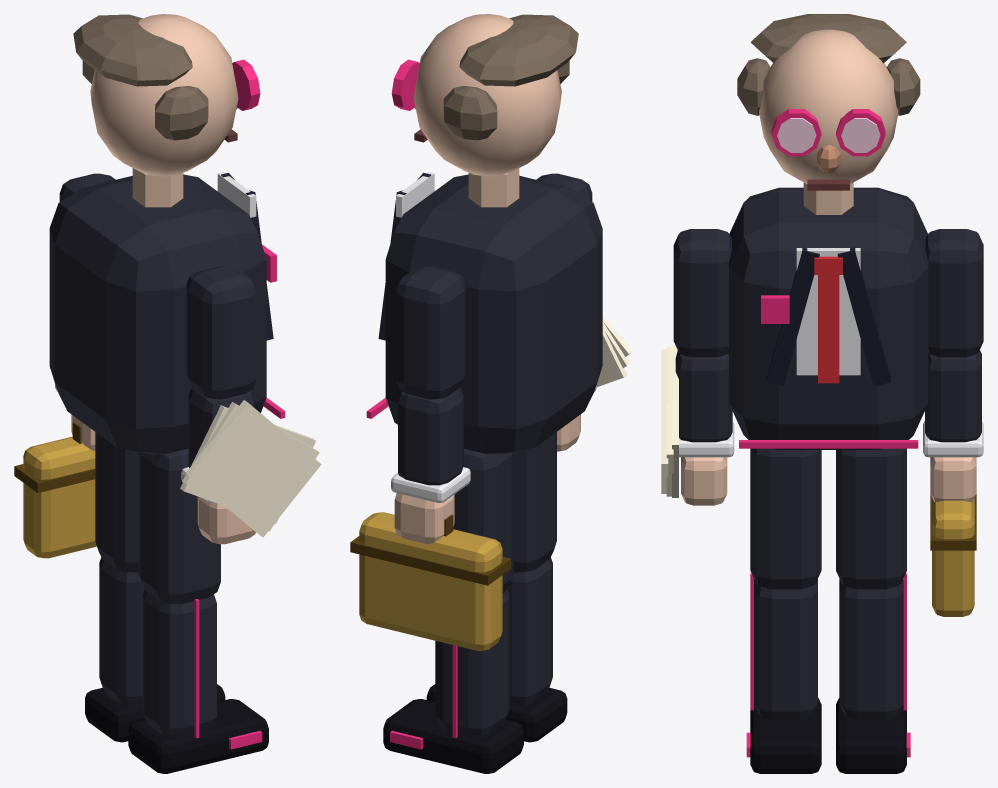
File: juriste.glb
3 renders of one model, left to right at view 1: azimuth 30°, elevation 25°; view 2: azimuth 150°, elevation 25°; view 3: azimuth 270°, elevation 25°, orthographic.
Visible parts, largest first — view 1: p_rbox.151, p_sph.313, p_rbox.137, p_box.899, p_rbox.138, p_rbox.140, p_rbox.152, p_sph.315, p_rbox.145, p_rbox.139, p_rbox.144, p_sph.316 (+11 smaller); view 2: p_rbox.151, p_rbox.152, p_sph.313, p_rbox.147, p_rbox.145, p_sph.315, p_rbox.138, p_rbox.148, p_rbox.146, p_rbox.137, p_rbox.144, p_sph.317 (+11 smaller); view 3: p_rbox.151, p_sph.313, p_rbox.137, p_rbox.144, p_rbox.145, p_rbox.138, p_rbox.147, p_rbox.140, p_rbox.148, p_rbox.141, p_rbox.152, p_rbox.139 (+24 smaller).
Boxes of the visible parts, left/top/right/bottom form: p_rbox.151: left=49, top=174, right=266, bottom=454; p_sph.313: left=90, top=14, right=238, bottom=176; p_rbox.137: left=138, top=449, right=220, bottom=604; p_box.899: left=186, top=400, right=321, bottom=537; p_rbox.138: left=142, top=589, right=216, bottom=737; p_rbox.140: left=186, top=266, right=256, bottom=399; p_rbox.152: left=23, top=436, right=96, bottom=558; p_sph.315: left=73, top=14, right=192, bottom=86; p_rbox.145: left=99, top=557, right=144, bottom=705; p_rbox.139: left=128, top=699, right=268, bottom=773; p_rbox.144: left=95, top=432, right=138, bottom=572; p_sph.316: left=155, top=86, right=208, bottom=140; p_rbox.151: left=385, top=174, right=602, bottom=454; p_rbox.152: left=359, top=512, right=502, bottom=650; p_sph.313: left=414, top=14, right=561, bottom=176; p_rbox.147: left=396, top=266, right=465, bottom=399; p_rbox.145: left=435, top=589, right=509, bottom=737; p_sph.315: left=459, top=14, right=578, bottom=86; p_rbox.138: left=507, top=557, right=552, bottom=705; p_rbox.148: left=398, top=387, right=463, bottom=485; p_rbox.146: left=383, top=699, right=523, bottom=773; p_rbox.137: left=513, top=432, right=556, bottom=572; p_rbox.144: left=453, top=449, right=513, bottom=592; p_sph.317: left=443, top=86, right=497, bottom=140; p_rbox.151: left=729, top=187, right=928, bottom=449; p_sph.313: left=759, top=29, right=898, bottom=184; p_rbox.137: left=750, top=448, right=821, bottom=589; p_rbox.144: left=836, top=448, right=906, bottom=589; p_rbox.145: left=839, top=579, right=903, bottom=720; p_rbox.138: left=754, top=579, right=817, bottom=720; p_rbox.147: left=925, top=229, right=983, bottom=357; p_rbox.140: left=673, top=229, right=731, bottom=357; p_rbox.148: left=925, top=350, right=981, bottom=442; p_rbox.141: left=675, top=350, right=732, bottom=442; p_rbox.152: left=932, top=498, right=974, bottom=616; p_rbox.139: left=750, top=698, right=821, bottom=773.
Bounding box in the file's own units: 0.527 × 2.2 × 0.905.
